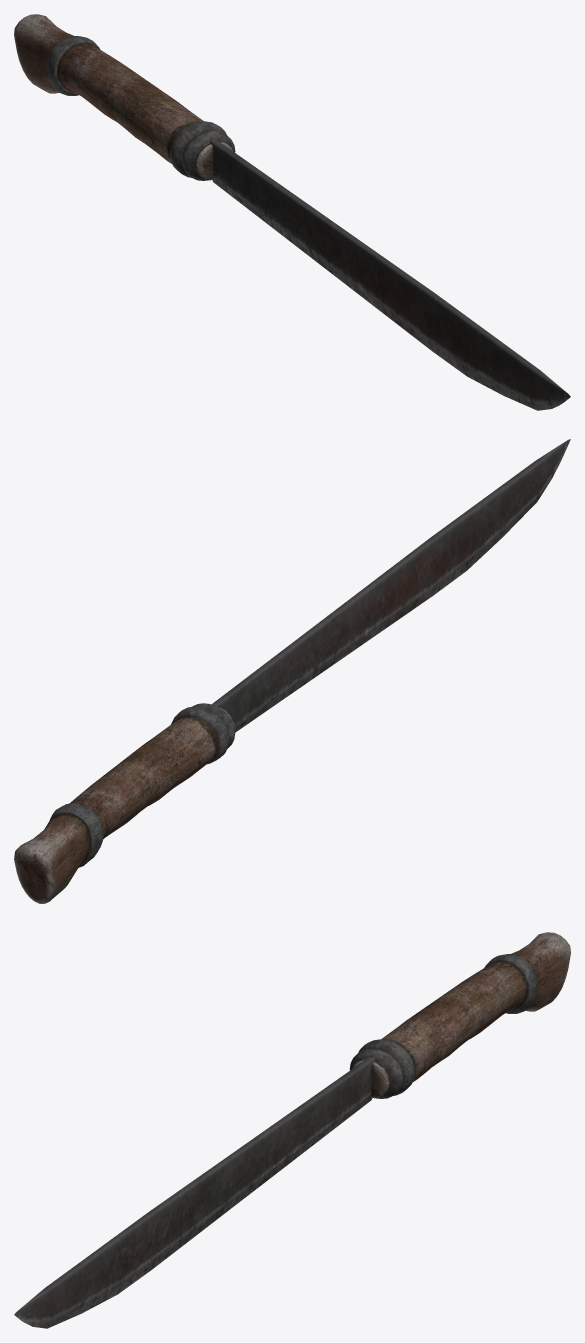
File: facao.glb
The picture shows the model from 3 angles, top to bottom: view 1: azimuth 30°, elevation 25°; view 2: azimuth 150°, elevation 25°; view 3: azimuth 330°, elevation 25°; orthographic projection.
Visible parts, largest first — view 1: Malha; view 2: Malha; view 3: Malha.
Boxes of the visible parts, bbox=[...] form: Malha: bbox=[14, 14, 570, 410]; Malha: bbox=[14, 439, 570, 903]; Malha: bbox=[14, 932, 570, 1328].
Size of the model in its own units: 0.0353 by 0.0486 by 0.6.
1 material, 1 textured.
